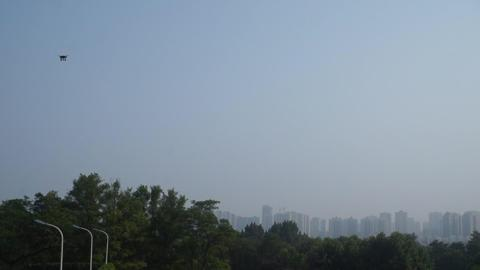UAV: (58, 55, 70, 62)
